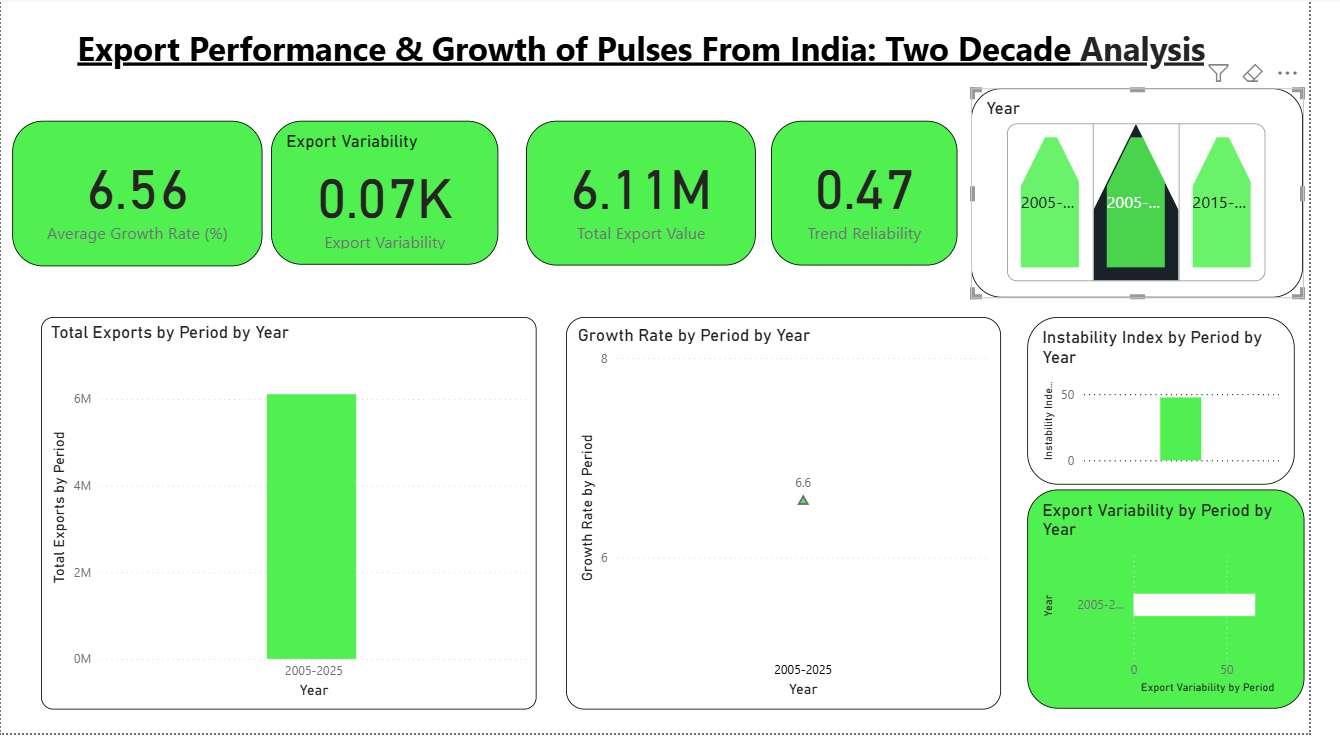

What the dashboard file says about the page in this screenshot:
{"tool":"powerbi","page":{"name":"Page 1","canvas":[1280,720],"ordinal":0},"visuals":[{"type":"card","fields":{"Values":["Sum(Variation.CGR)"]},"box":[10.6,121.1,244.5,142.2],"z":0},{"type":"card","title":"Export Variability","fields":{"Values":["Sum(Variation.CV)"]},"box":[264.5,121.1,251.6,141.1],"z":2000},{"type":"card","fields":{"Values":["Sum(Variation.Total )"]},"box":[526.7,121.1,225.7,142.2],"z":3000},{"type":"card","fields":{"Values":["Sum(Variation.RSQ)"]},"box":[766.5,121.1,182.2,142.2],"z":4000},{"type":"clusteredColumnChart","fields":{"Category":["Variation.Year"],"Y":["Sum(Variation.Total )"]},"box":[38.9,312.8,485.1,383.7],"z":5000},{"type":"lineChart","fields":{"Y":["Sum(Variation.CGR)"],"Category":["Variation.Year"]},"box":[553.3,312.8,425.4,383.7],"z":6000},{"type":"barChart","fields":{"Category":["Variation.Year"],"Y":["Sum(Variation.CV)"]},"box":[1003.7,482.4,271.1,214.1],"z":7000},{"type":"columnChart","fields":{"Category":["Variation.Year"],"Y":["Sum(Variation.Cuddy della)"]},"box":[1003.7,312.8,261.3,164],"z":8000},{"type":"textbox","box":[10.6,23.5,1230.9,70.5],"z":9000},{"type":"advancedSlicerVisual","fields":{"Values":["Variation.Year"]},"box":[949,89,324.6,205.1],"z":10000}]}

Visuals, with their boxes in screenshot pixels (x1, y1, x2, y2), scaled from the page's 1280x720 canvas onto the 1340x738 screenshot:
card - Sum(Variation.CGR): [x1=11, y1=124, x2=267, y2=270]
"Export Variability" card: [x1=277, y1=124, x2=540, y2=269]
card - Sum(Variation.Total ): [x1=551, y1=124, x2=788, y2=270]
card - Sum(Variation.RSQ): [x1=802, y1=124, x2=993, y2=270]
clusteredColumnChart - Variation.Year x Sum(Variation.Total ): [x1=41, y1=321, x2=549, y2=714]
lineChart - Sum(Variation.CGR) x Variation.Year: [x1=579, y1=321, x2=1025, y2=714]
barChart - Variation.Year x Sum(Variation.CV): [x1=1051, y1=494, x2=1335, y2=714]
columnChart - Variation.Year x Sum(Variation.Cuddy della): [x1=1051, y1=321, x2=1324, y2=489]
textbox: [x1=11, y1=24, x2=1300, y2=96]
advancedSlicerVisual - Variation.Year: [x1=993, y1=91, x2=1333, y2=301]
